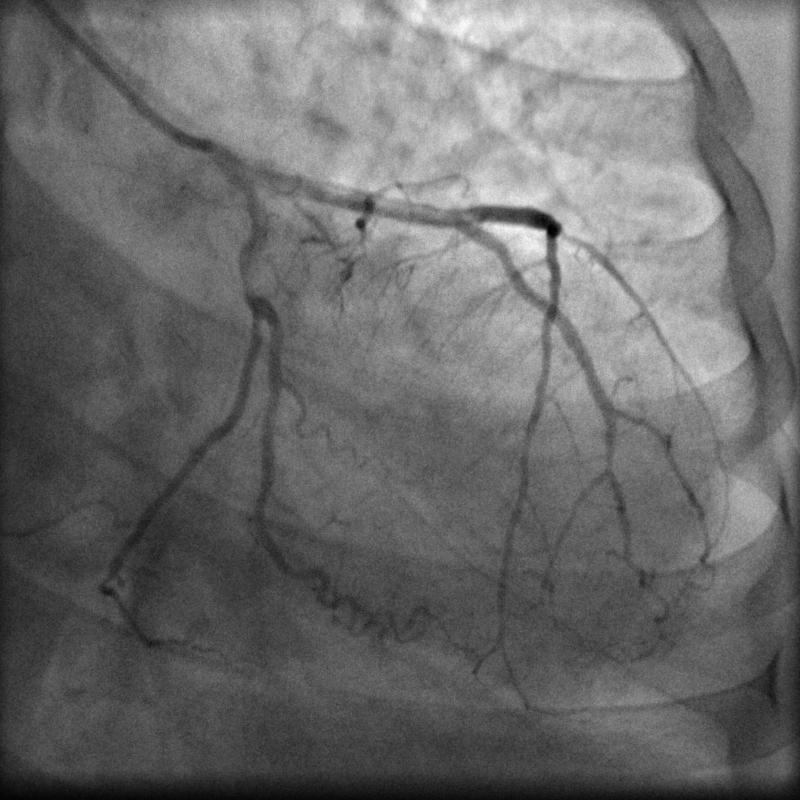Stenosis: (233, 256, 267, 309)
